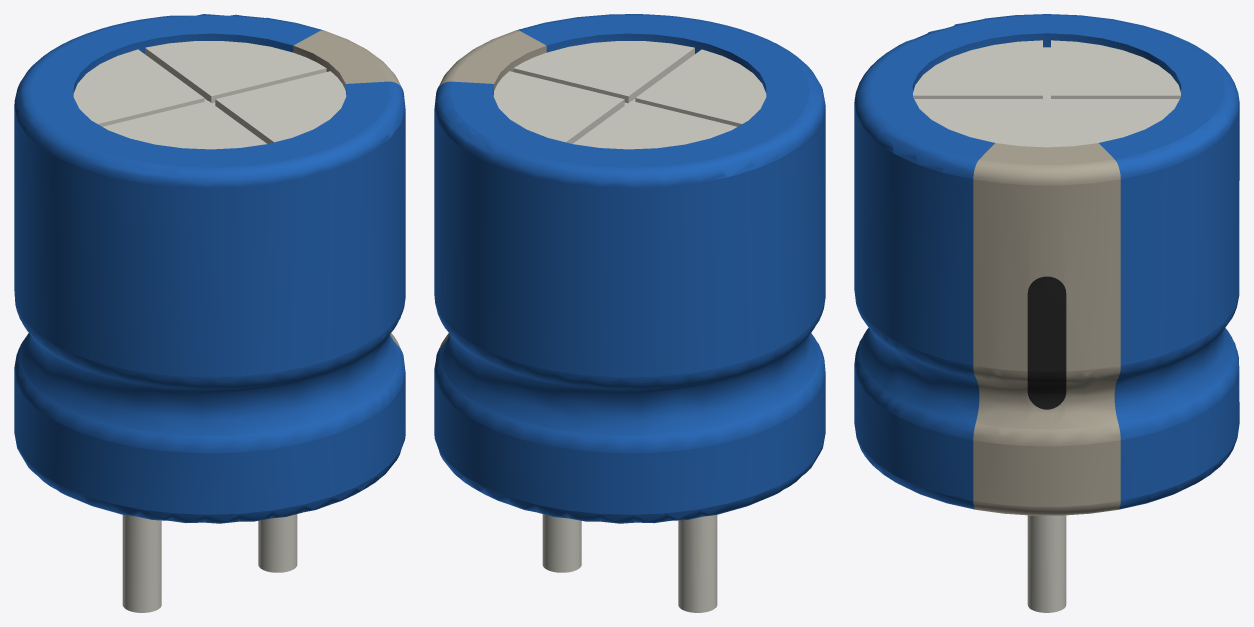
The model's file is kc-cp_radial_d5.0mm_p2.00mm.glb.
3 renders of one model, left to right at view 1: azimuth 30°, elevation 25°; view 2: azimuth 150°, elevation 25°; view 3: azimuth 270°, elevation 25°, orthographic.
Parts seen in each view (by area): view 1: 0_0.16666666666666666_0.5_0, 0.6666666666666666_0.6666666666666666_0.5833333333333334_0.8, 0.4166666666666667_0.4166666666666667_0.3333333333333333_0; view 2: 0_0.16666666666666666_0.5_0, 0.6666666666666666_0.6666666666666666_0.5833333333333334_0.8, 0.4166666666666667_0.4166666666666667_0.3333333333333333_0; view 3: 0_0.16666666666666666_0.5_0, 0.4166666666666667_0.4166666666666667_0.3333333333333333_0, 0.6666666666666666_0.6666666666666666_0.5833333333333334_0.8, 0_0_0_0.
Boxes of the visible parts, <box> form: 0_0.16666666666666666_0.5_0: <box>14,14,405,523</box>; 0.6666666666666666_0.6666666666666666_0.5833333333333334_0.8: <box>73,41,346,612</box>; 0.4166666666666667_0.4166666666666667_0.3333333333333333_0: <box>293,30,401,349</box>; 0_0.16666666666666666_0.5_0: <box>434,14,825,523</box>; 0.6666666666666666_0.6666666666666666_0.5833333333333334_0.8: <box>493,41,766,612</box>; 0.4166666666666667_0.4166666666666667_0.3333333333333333_0: <box>438,30,546,349</box>; 0_0.16666666666666666_0.5_0: <box>854,14,1239,509</box>; 0.4166666666666667_0.4166666666666667_0.3333333333333333_0: <box>973,143,1120,515</box>; 0.6666666666666666_0.6666666666666666_0.5833333333333334_0.8: <box>913,40,1180,612</box>; 0_0_0_0: <box>1027,276,1066,409</box>.
Size of the model in its own units: 0.5 by 0.7 by 0.4999.
